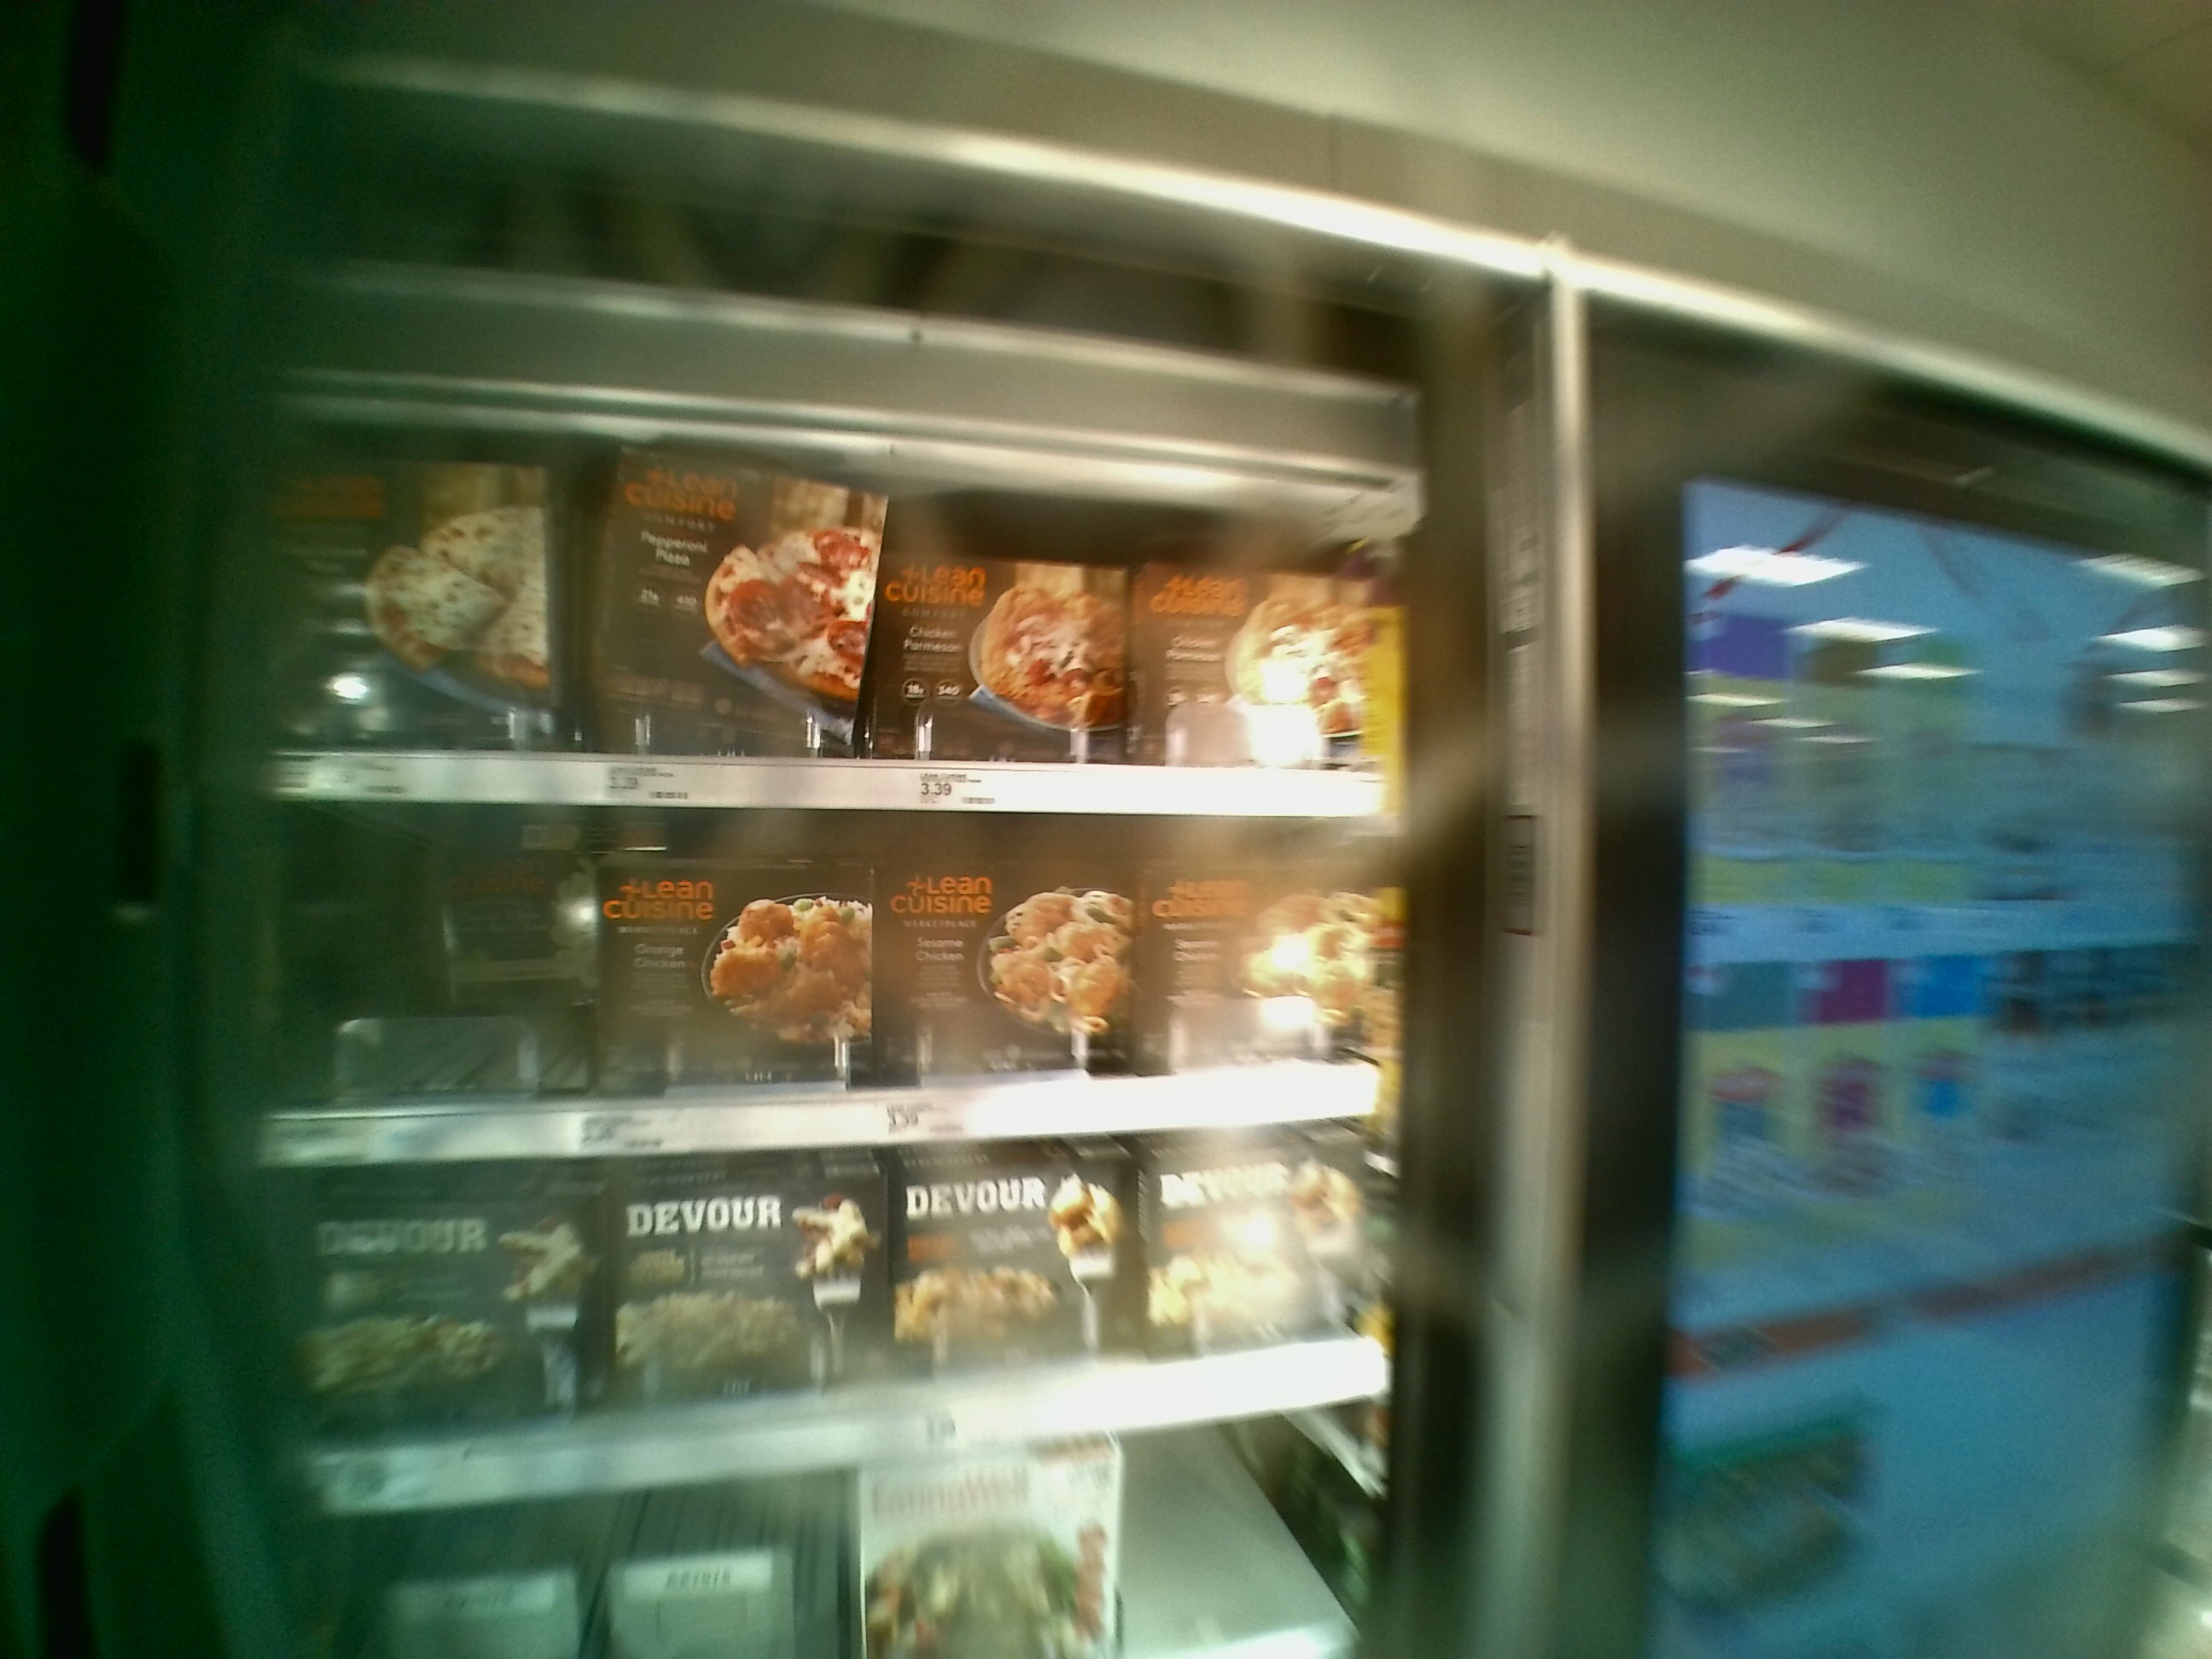shelf: (249, 396, 1407, 823), (244, 796, 1404, 1180)
